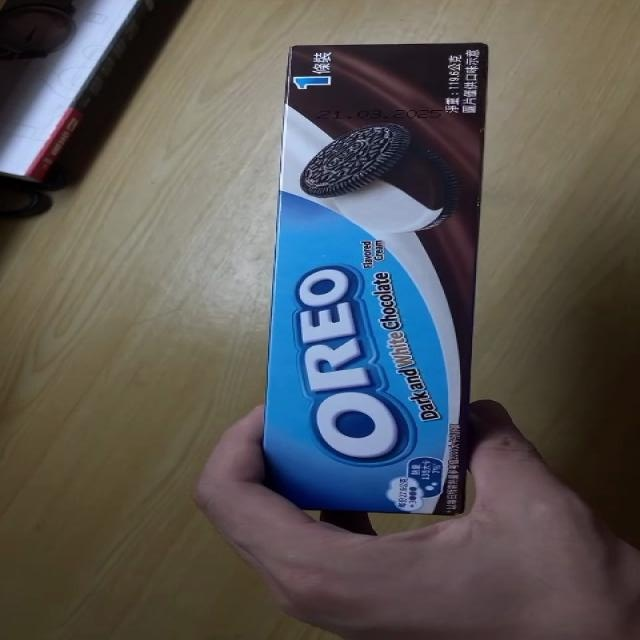Oreo: (253, 41, 500, 518)
